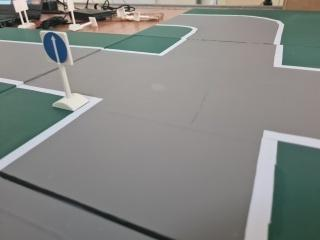straight: (39, 29, 74, 67)
